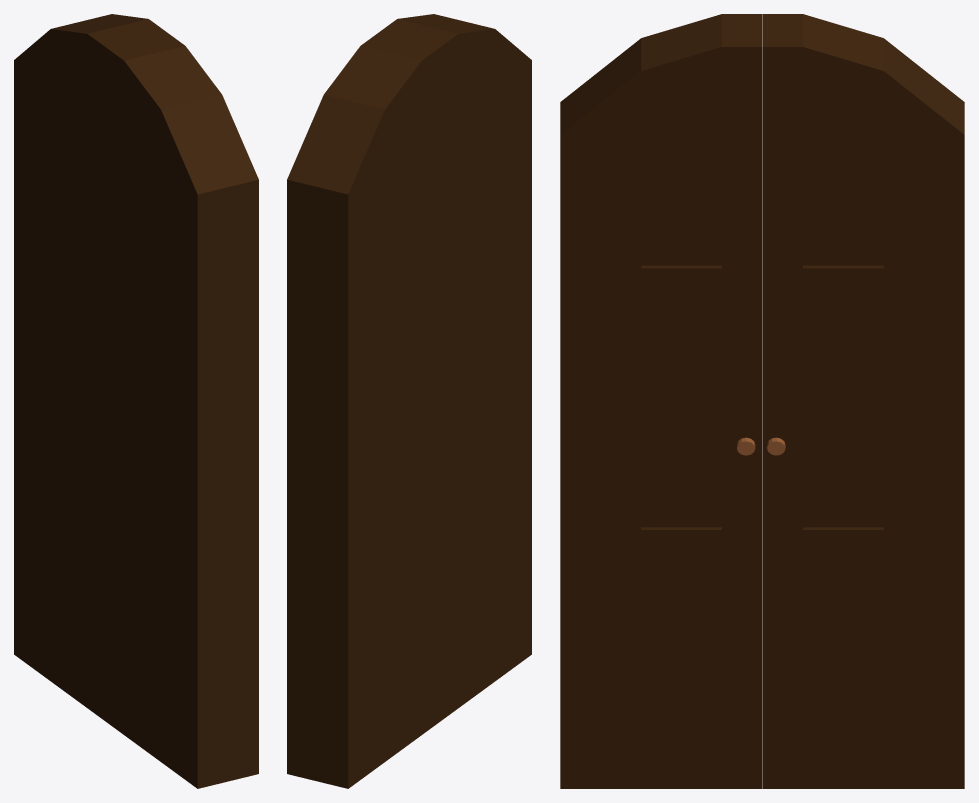
File: portone chiesa colorato.fbx
The picture shows the model from 3 angles, left to right: view 1: azimuth 30°, elevation 25°; view 2: azimuth 150°, elevation 25°; view 3: azimuth 270°, elevation 25°; orthographic projection. The views are drawn at different scales.
Parts seen in each view (by area): view 1: Generic_1, Generic_3; view 2: Generic_3, Generic_1; view 3: Generic_3, Generic_1.
Boxes of the visible parts, box(x1,y1,x2,y2) form: Generic_1: box(106, 32, 258, 788); Generic_3: box(14, 14, 166, 721); Generic_3: box(287, 32, 439, 788); Generic_1: box(379, 14, 531, 721); Generic_3: box(762, 14, 964, 788); Generic_1: box(560, 14, 762, 788).
Bounding box in the file's own units: 0.7849 × 7.27 × 3.59.
